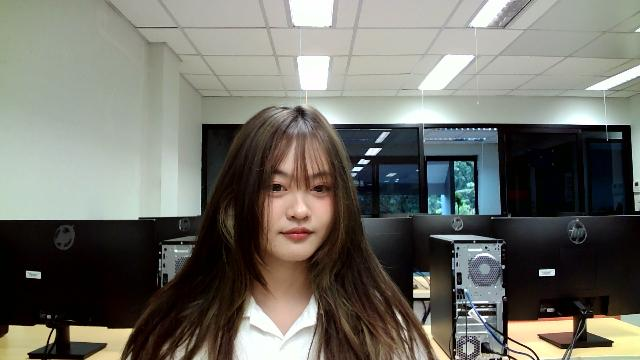fokus: (219, 101, 348, 265)
